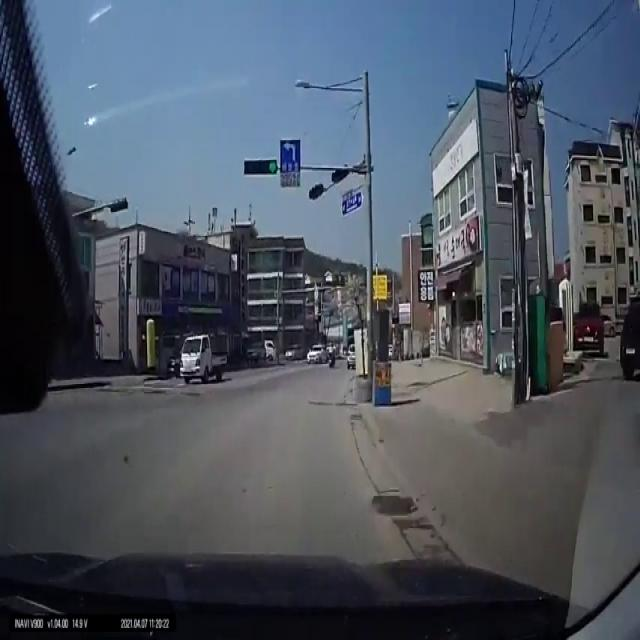Pothole: (370, 491, 419, 517)
